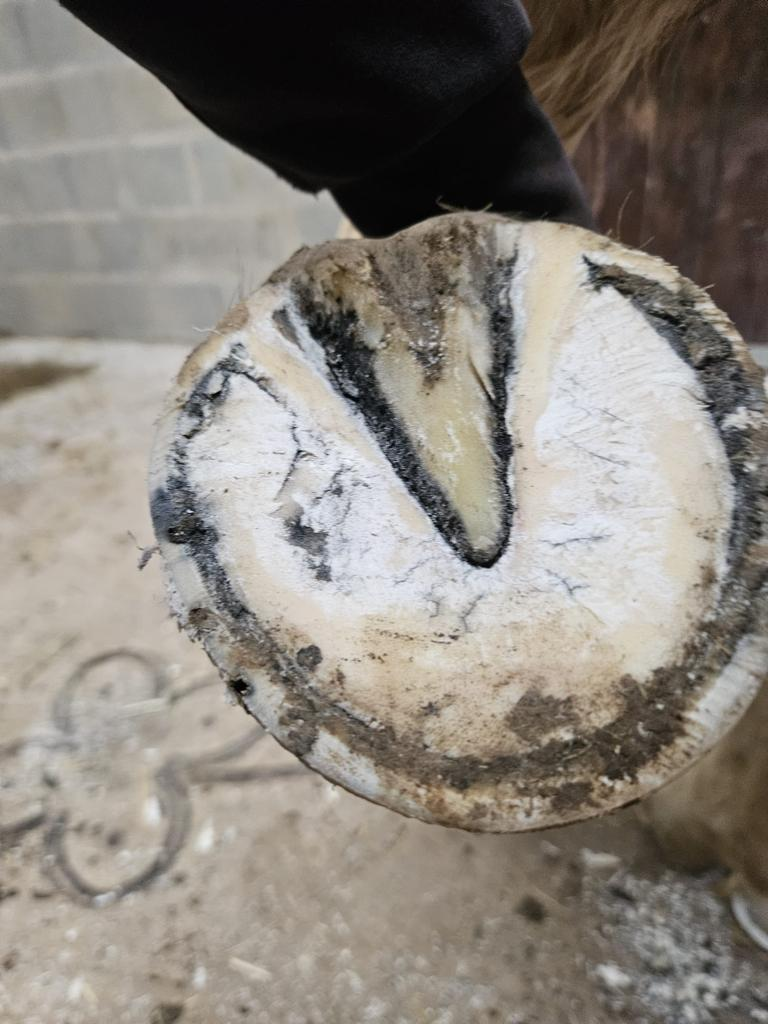horsesole: (148, 219, 768, 833)
